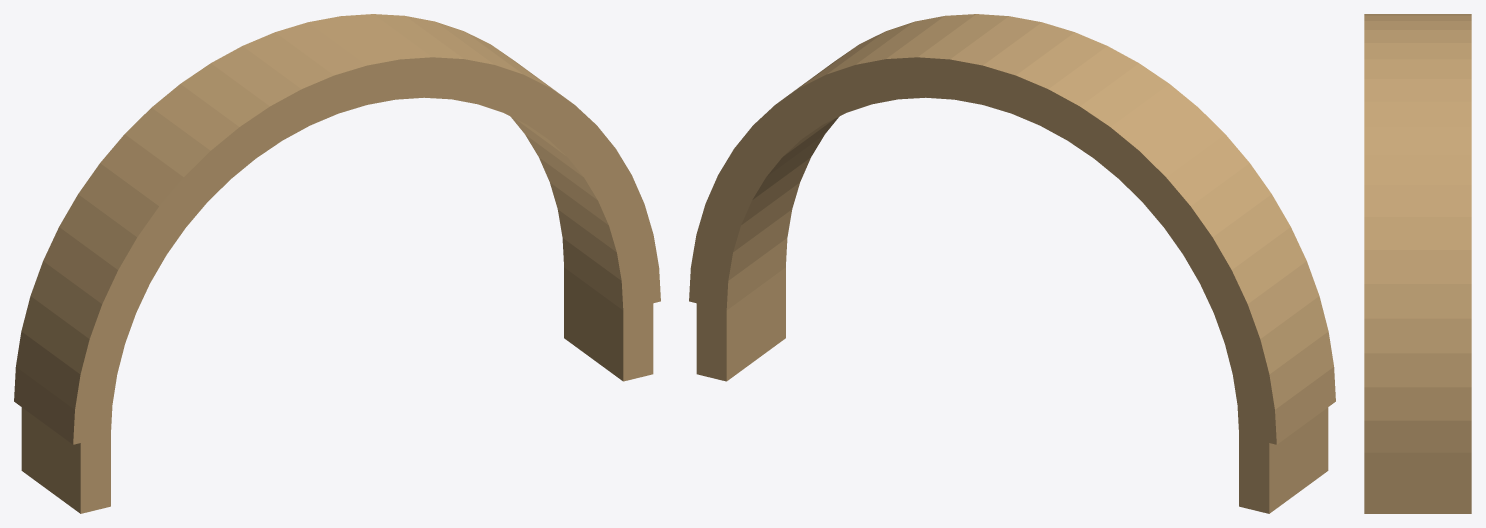
The model's file is ArenaGate_Wall.fbx.
3 renders of one model, left to right at view 1: azimuth 30°, elevation 25°; view 2: azimuth 150°, elevation 25°; view 3: azimuth 270°, elevation 25°, orthographic. The views are drawn at different scales.
Parts seen in each view (by area): view 1: ArenaGateArch.001; view 2: ArenaGateArch.001; view 3: ArenaGateArch.001.
Boxes of the visible parts, <box> form: ArenaGateArch.001: <box>14,14,660,513</box>; ArenaGateArch.001: <box>689,14,1335,513</box>; ArenaGateArch.001: <box>1364,14,1471,513</box>.
Bounding box in the file's own units: 7800 × 4800 × 1360.
